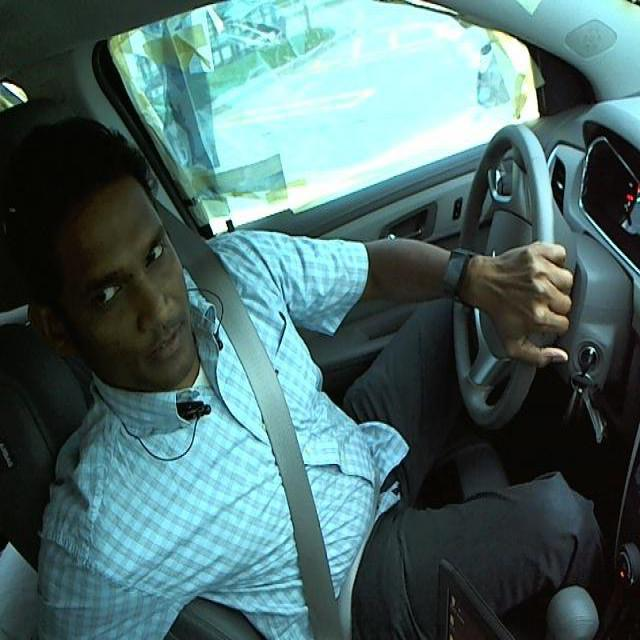seatbelt: (216, 286, 373, 610)
